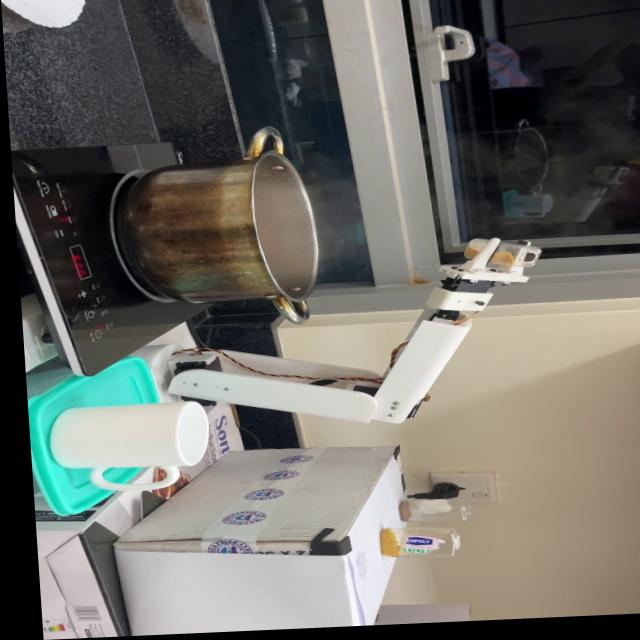cooking_pot: (113, 127, 321, 332)
curry_powder: (368, 531, 392, 564)
garlic_powder: (458, 249, 512, 269)
maggie_open: (388, 503, 403, 524)
